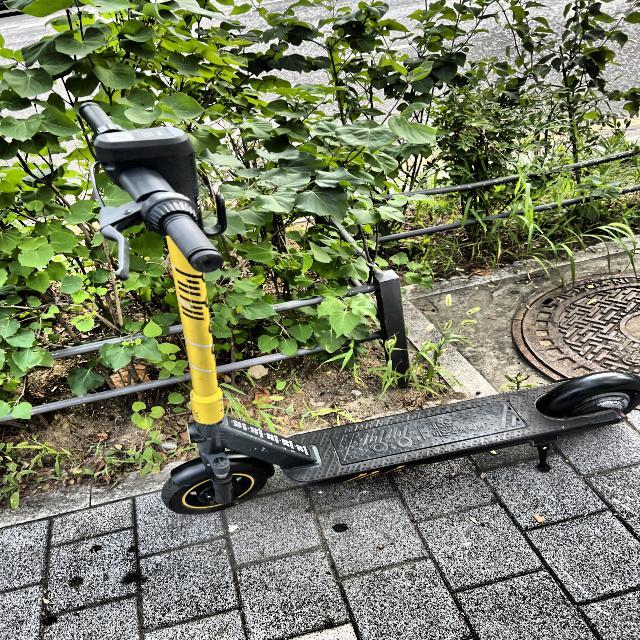bike: (72, 101, 639, 514)
